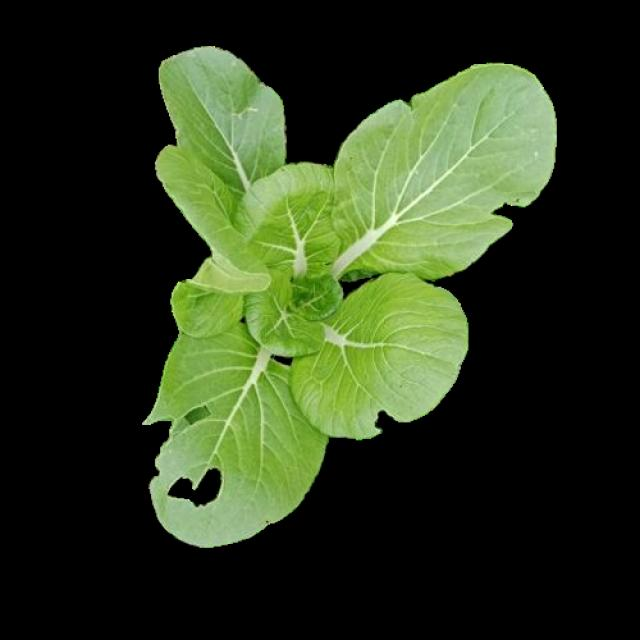mature: (150, 48, 554, 554)
unhealthy: (337, 60, 556, 275), (149, 338, 325, 554), (292, 268, 464, 446)
